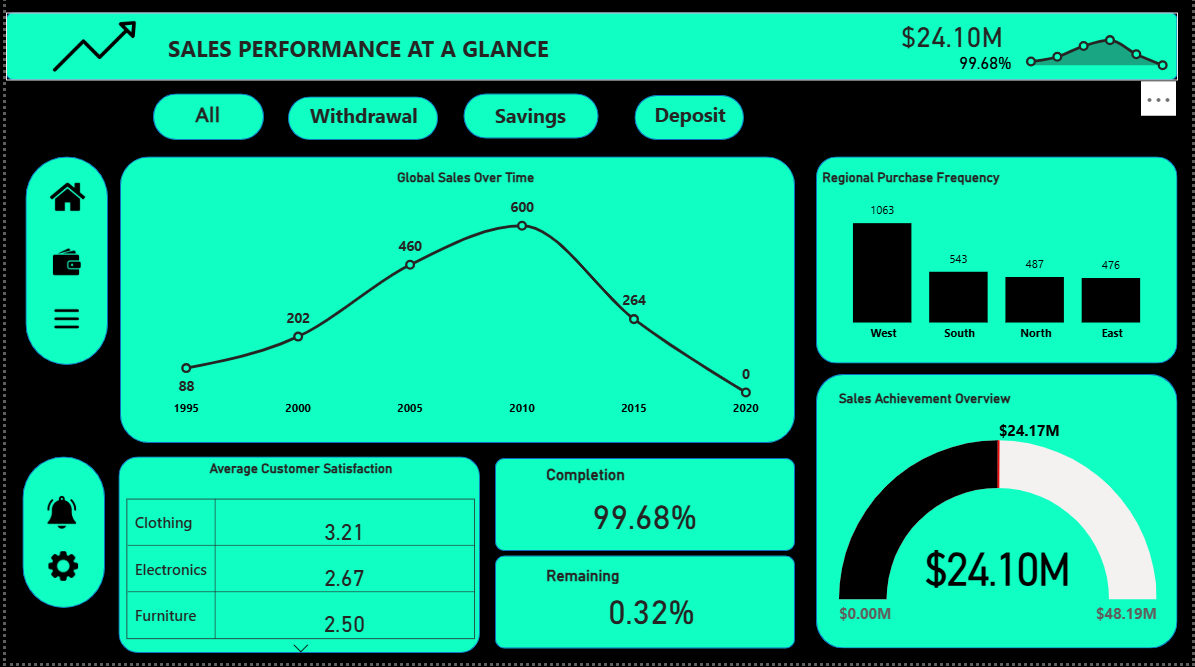

Layout of this report page (visuals, bound fields, positions):
{"tool":"powerbi","page":{"name":"Page 1","canvas":[1280,720],"ordinal":0},"visuals":[{"type":"shape","box":[17.8,497.1,89.1,163.5],"z":1000},{"type":"shape","box":[21,173.3,89.1,225.1],"z":2000},{"type":"shape","box":[158.7,105.2,119.8,50.2],"z":3000},{"type":"shape","box":[493.9,105.2,145.7,48.6],"z":4000},{"type":"shape","box":[678.5,106.9,118.2,48.6],"z":5000},{"type":"shape","box":[304.4,108.5,161.9,47],"z":6000},{"type":"shape","box":[123.1,173.3,728.7,309.3],"z":7000},{"type":"shape","box":[121.4,497.1,390.2,212.1],"z":8000},{"type":"shape","box":[527.9,498.7,323.8,100.4],"z":9000},{"type":"shape","box":[527.9,604,323.8,100.4],"z":10000},{"type":"shape","box":[874.4,173.3,390.2,223.5],"z":11000},{"type":"shape","box":[874.4,408,390.2,296.3],"z":12000},{"type":"image","box":[42.1,187.8,48.6,58.3],"z":13000},{"type":"textbox","box":[165.2,106.9,105.2,50.2],"z":14000},{"type":"textbox","box":[301.2,108.5,170,48.6],"z":15000},{"type":"textbox","box":[514.9,108.5,102,50.2],"z":16000},{"type":"textbox","box":[686.6,106.9,103.6,50.2],"z":17000},{"type":"shape","box":[0,17.8,1264.6,72.9],"z":18000},{"type":"textbox","box":[150.6,34,466.3,51.8],"z":19000},{"type":"lineChart","title":"Global Sales Over Time","fields":{"Category":["vgsalesGlobale (2).Year"],"Y":["Sum(vgsalesGlobale (2).Global_Sales)"]},"box":[140.9,187.8,710.8,275.3],"z":20000},{"type":"gauge","title":"Sales Achievement Overview","fields":{"Y":["Sum(Dataset.SalesAmount)"],"TargetValue":["Sum(Dataset.Target Sales Amount)"]},"box":[893.8,425.9,353,262.3],"z":21000},{"type":"card","title":"Completion","fields":{"Values":["Dataset.% of sales"]},"box":[578.1,506.8,221.8,84.2],"z":22000},{"type":"card","title":"Remaining","fields":{"Values":["Dataset.uncompleted"]},"box":[578.1,615.3,236.4,72.9],"z":23000},{"type":"image","box":[45.3,263.9,40.5,45.3],"z":24000},{"type":"image","box":[40.5,325.5,50.2,45.3],"z":25000},{"type":"image","box":[37.2,511.7,45.3,90.7],"z":26000},{"type":"image","box":[40.5,592.6,42.1,45.3],"z":27000},{"type":"clusteredColumnChart","title":"Regional Purchase Frequency","fields":{"Category":["Dataset.Region"],"Y":["Sum(Dataset.PurchaseFrequency)"]},"box":[876,187.8,388.6,194.3],"z":28000},{"type":"cardVisual","title":"Average Customer Satisfaction","fields":{"Data":["Avg(Dataset.CustomerSatisfaction)"],"Rows":["Dataset.ProductCategory"]},"box":[110.1,498.7,401.6,221.8],"z":29000},{"type":"cardVisual","fields":{"Data":["Sum(Dataset.SalesAmount)"]},"box":[948.9,0,173.3,79.3],"z":30000},{"type":"card","fields":{"Values":["Dataset.% of sales"]},"box":[965.1,27.5,183,89.1],"z":31000},{"type":"areaChart","fields":{"Category":["vgsalesGlobale (2).Year"],"Y":["Sum(vgsalesGlobale (2).Global_Sales)"]},"box":[1089.7,24.3,174.9,61.5],"z":32000},{"type":"image","box":[40.5,0,110.1,108.5],"z":32001}]}

Visuals, with their boxes in screenshot pixels (x1, y1, x2, y2), scaled from the page's 1280x720 canvas onto the 1195x667 screenshot:
shape: bbox(17, 461, 100, 612)
shape: bbox(20, 161, 103, 369)
shape: bbox(148, 97, 260, 144)
shape: bbox(461, 97, 597, 142)
shape: bbox(633, 99, 744, 144)
shape: bbox(284, 101, 435, 144)
shape: bbox(115, 161, 795, 447)
shape: bbox(113, 461, 478, 657)
shape: bbox(493, 462, 795, 555)
shape: bbox(493, 560, 795, 653)
shape: bbox(816, 161, 1181, 368)
shape: bbox(816, 378, 1181, 652)
image: bbox(39, 174, 85, 228)
textbox: bbox(154, 99, 252, 146)
textbox: bbox(281, 101, 440, 146)
textbox: bbox(481, 101, 576, 147)
textbox: bbox(641, 99, 738, 146)
shape: bbox(0, 16, 1181, 84)
textbox: bbox(141, 31, 576, 79)
"Global Sales Over Time" lineChart: bbox(132, 174, 795, 429)
"Sales Achievement Overview" gauge: bbox(834, 395, 1164, 638)
"Completion" card: bbox(540, 469, 747, 547)
"Remaining" card: bbox(540, 570, 760, 638)
image: bbox(42, 244, 80, 286)
image: bbox(38, 302, 85, 344)
image: bbox(35, 474, 77, 558)
image: bbox(38, 549, 77, 591)
"Regional Purchase Frequency" clusteredColumnChart: bbox(818, 174, 1181, 354)
"Average Customer Satisfaction" cardVisual: bbox(103, 462, 478, 666)
cardVisual - Sum(Dataset.SalesAmount): bbox(886, 0, 1048, 73)
card - Dataset.% of sales: bbox(901, 25, 1072, 108)
areaChart - vgsalesGlobale (2).Year x Sum(vgsalesGlobale (2).Global_Sales): bbox(1017, 23, 1181, 79)
image: bbox(38, 0, 141, 101)
